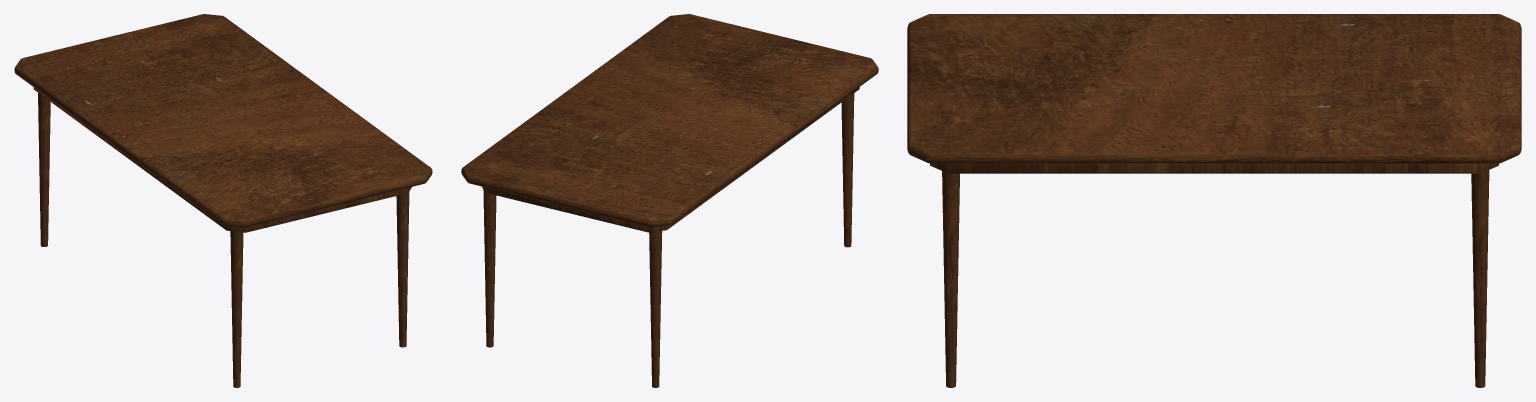
The model's file is desk.fbx.
The picture shows the model from 3 angles, left to right: view 1: azimuth 30°, elevation 25°; view 2: azimuth 150°, elevation 25°; view 3: azimuth 270°, elevation 25°; orthographic projection. The views are drawn at different scales.
Visible parts, largest first — view 1: Cube, 柱体.002, Cube.001, 柱体, 柱体.003; view 2: Cube, 柱体.003, Cube.001, 柱体.001, 柱体.002; view 3: Cube, Cube.001, 柱体.001, 柱体.
Boxes of the visible parts, x1=… form: Cube: x1=14, y1=14, x2=432, y2=227; 柱体.002: x1=230, y1=231, x2=243, y2=387; Cube.001: x1=33, y1=87, x2=411, y2=232; 柱体: x1=396, y1=192, x2=409, y2=347; 柱体.003: x1=38, y1=93, x2=50, y2=246; Cube: x1=461, y1=14, x2=878, y2=227; 柱体.003: x1=649, y1=231, x2=662, y2=387; Cube.001: x1=482, y1=87, x2=859, y2=232; 柱体.001: x1=483, y1=190, x2=496, y2=347; 柱体.002: x1=841, y1=93, x2=854, y2=247; Cube: x1=907, y1=14, x2=1521, y2=163; Cube.001: x1=930, y1=163, x2=1498, y2=173; 柱体.001: x1=1471, y1=170, x2=1489, y2=387; 柱体: x1=942, y1=171, x2=959, y2=387.
Bounding box in the file's own units: 465 × 378 × 853.
